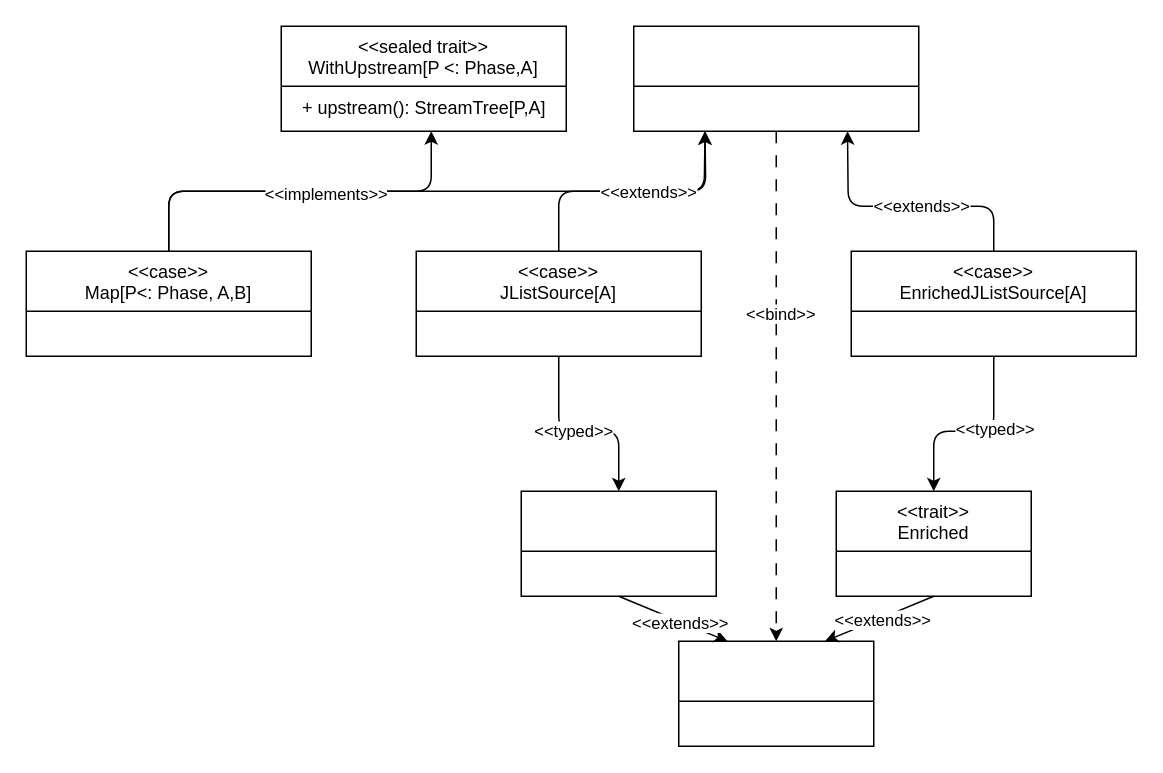
The diagram is 1163 pixels wide and 773 high, and some of its shapes have lost their labels. The shapes that lost their labels are listed below. From the top down, each one's box as (x1, y1, x2, y2) in pixels, then its label:
(632, 25, 919, 131): <<enum>> StreamTree[P<: Phase, A]
(520, 490, 716, 596): <<trait>> Raw
(677, 640, 874, 746): <<sealed trait>> Phase
